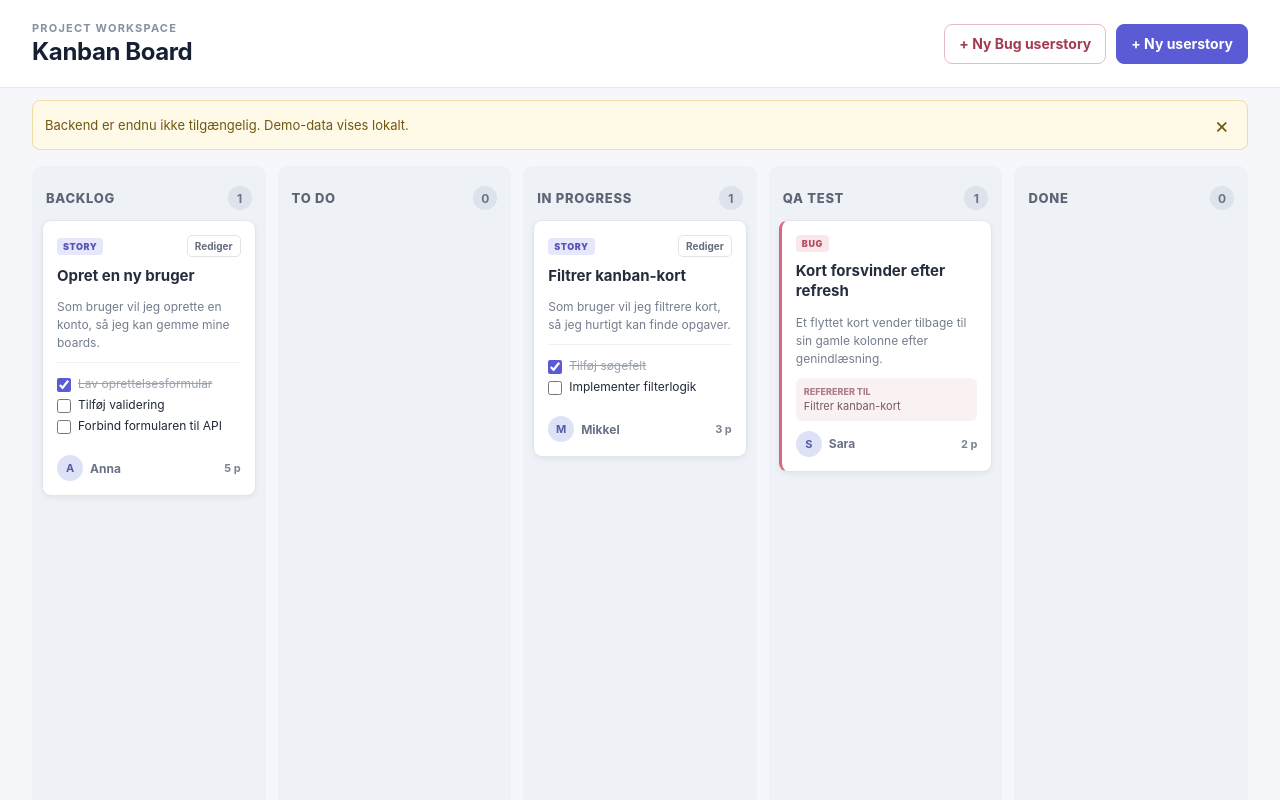
Test: Kanban board › edits an existing user story
Click the button with aria-label "Rediger Opret en ny bruger" at (214, 246), box [187, 235, 241, 257]
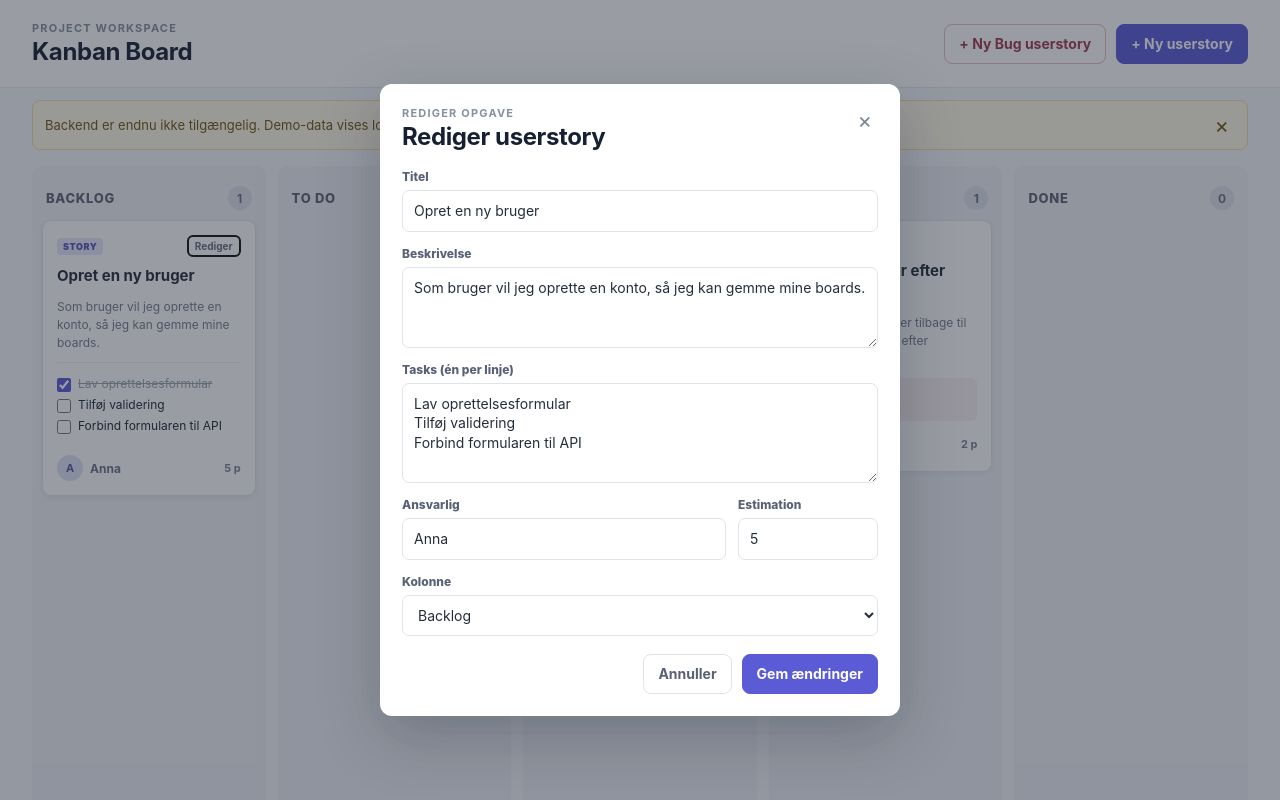
Replace the text in the field labelled "Titel" with "Brugeroprettelse opdateret" at (640, 211), box [402, 190, 878, 232]
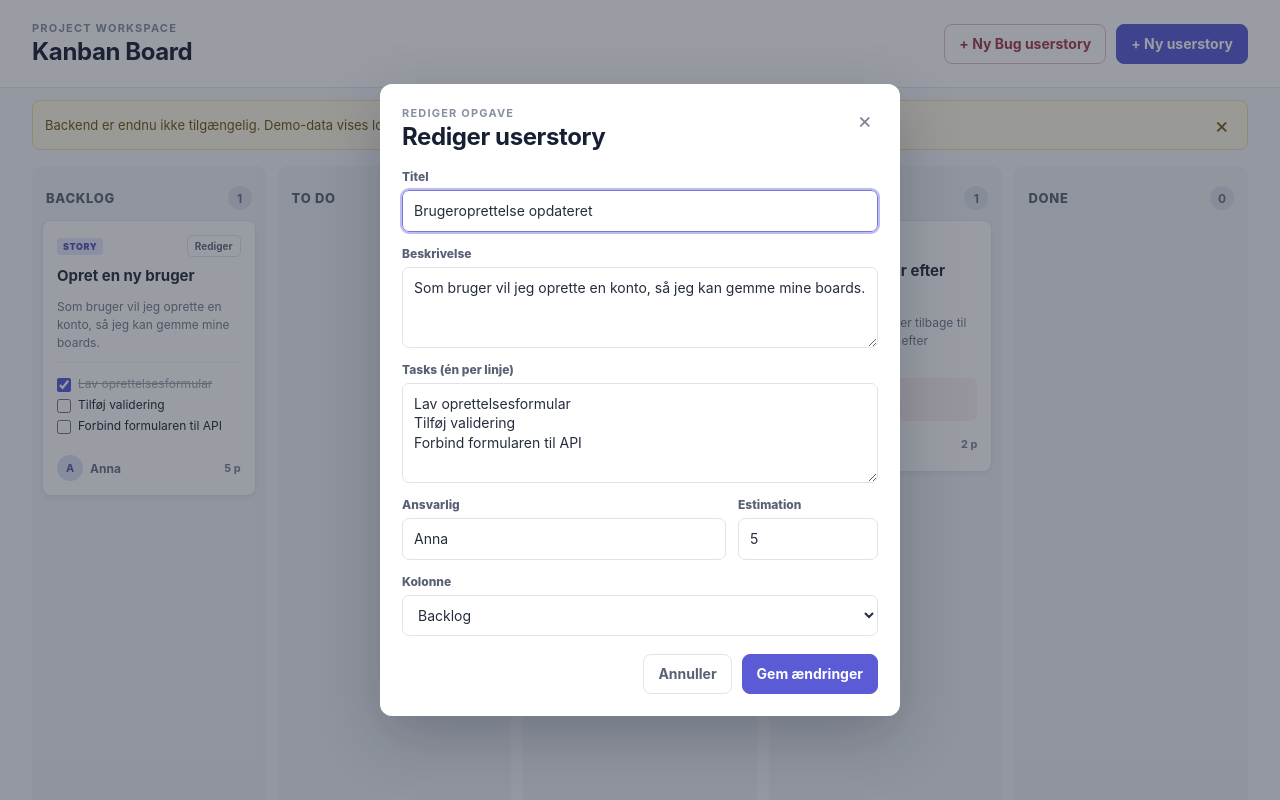
Click the button "Gem ændringer" at (810, 674), box [742, 654, 878, 694]
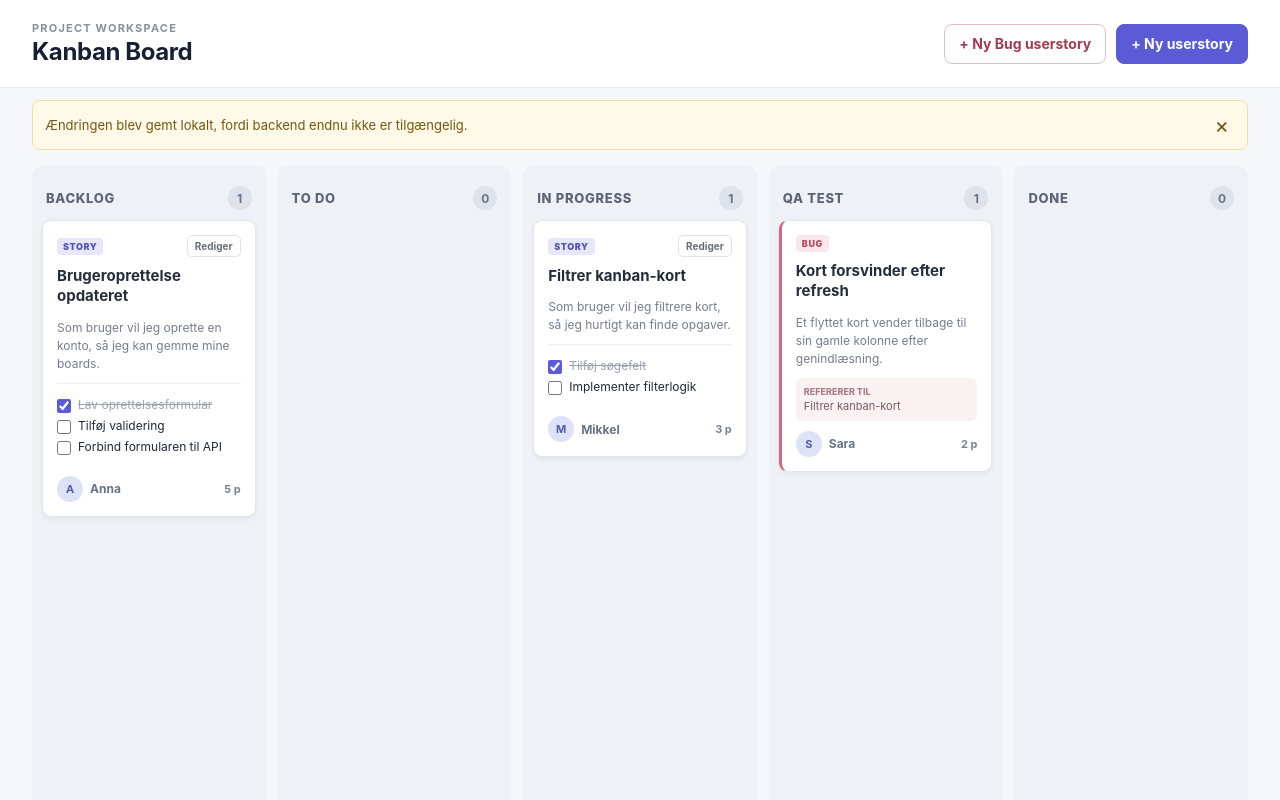
Expected: the heading "Brugeroprettelse opdateret" is shown, [57, 266, 181, 305]
